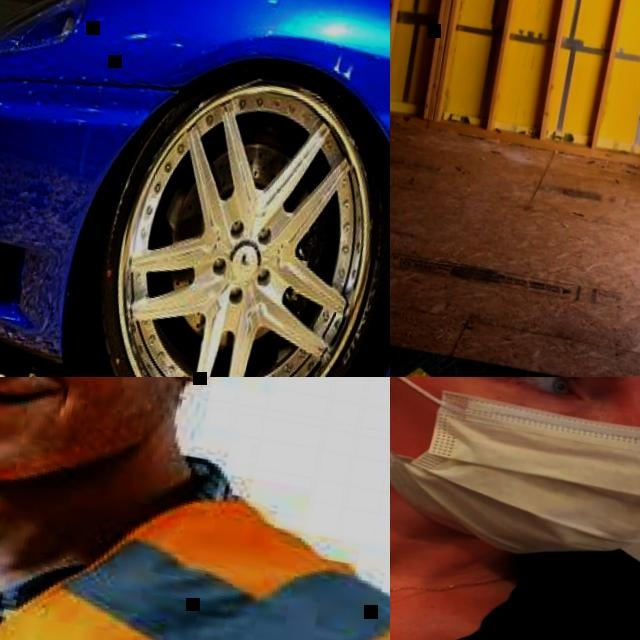Mask: (390, 377, 640, 580)
NO-Mask: (0, 377, 216, 515)
NO-Safety Vest: (390, 483, 640, 640)
Person: (0, 377, 390, 640), (390, 377, 640, 640)
Safety Vest: (0, 408, 390, 640)
vehicle: (0, 0, 390, 377)
